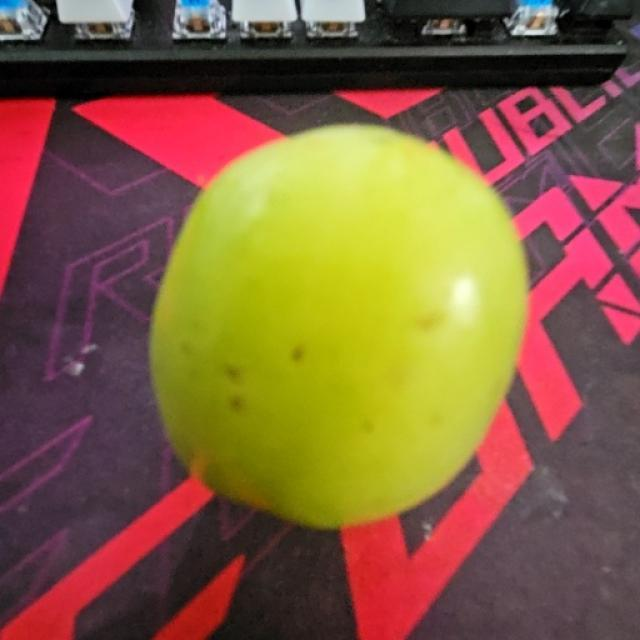Green: (146, 121, 530, 531)
